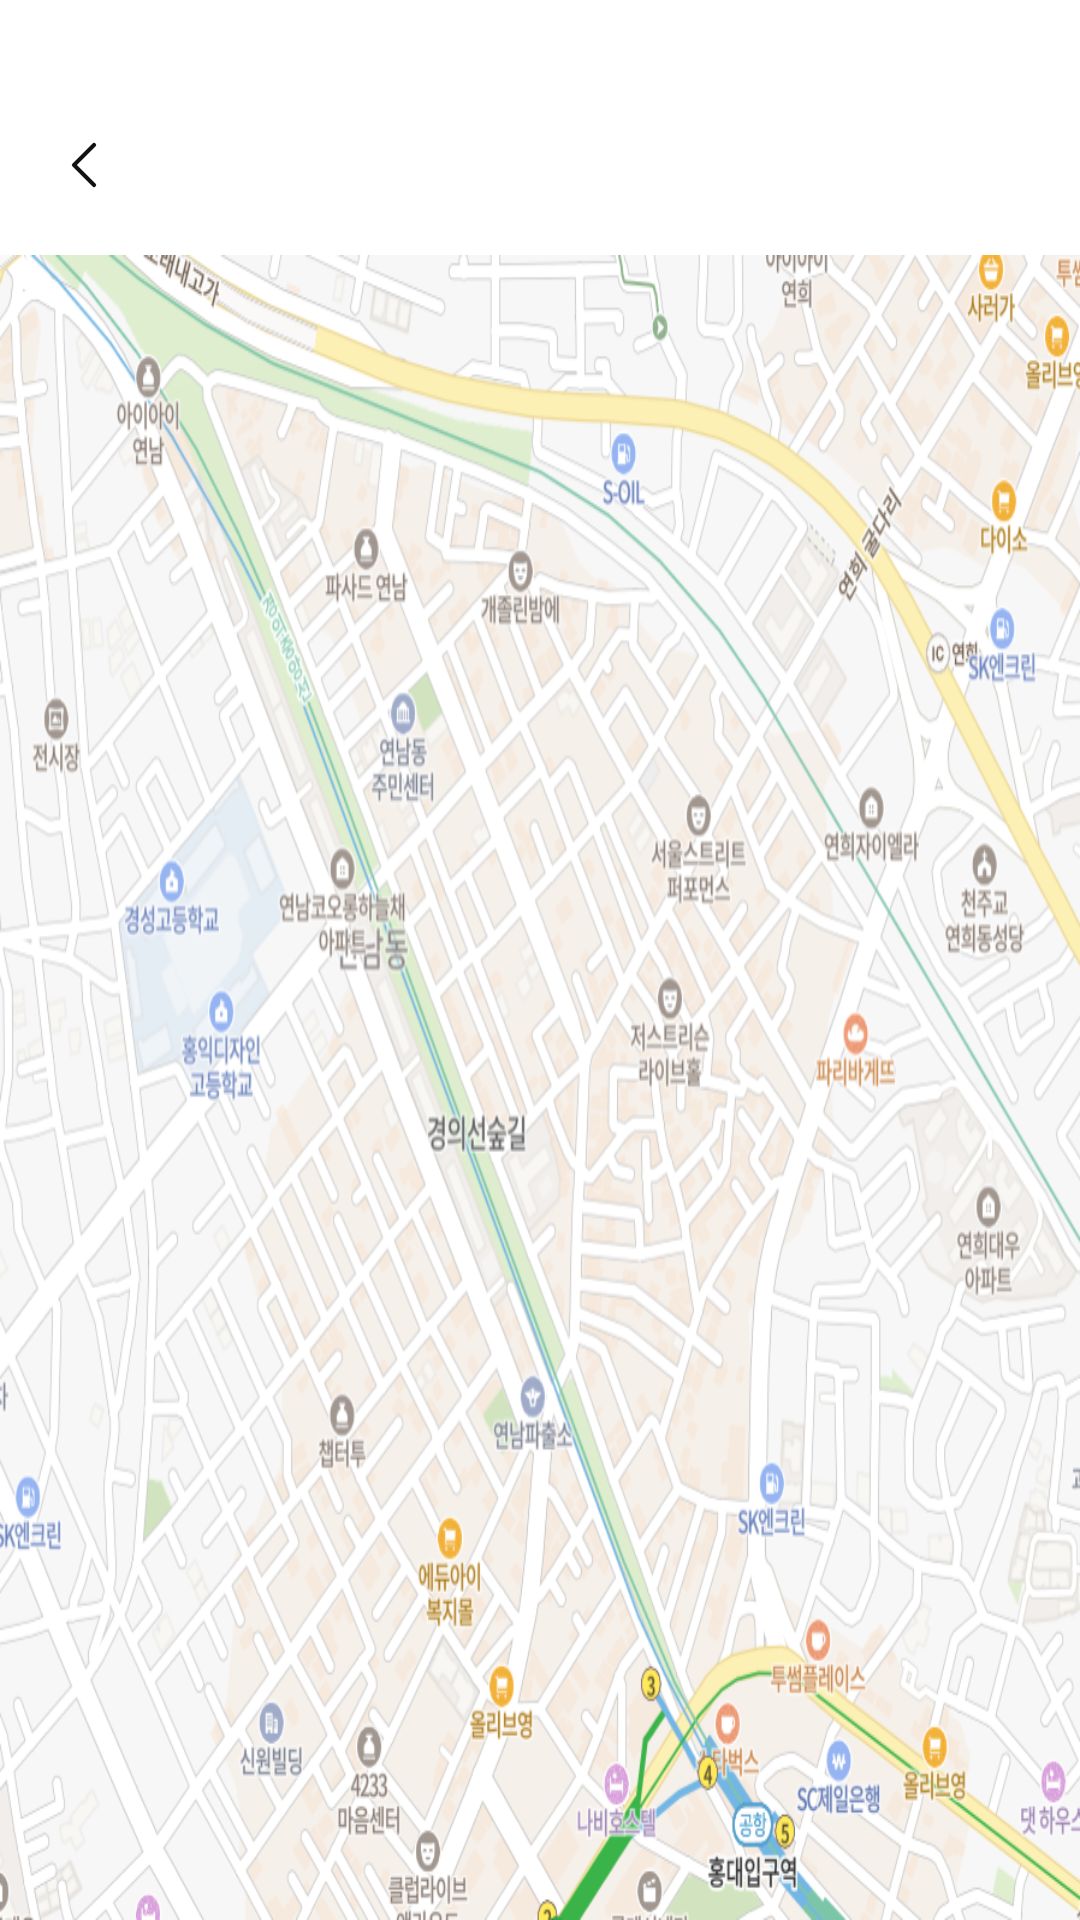

Locate icon controls on the screen. Image size 1080 × 1920, boxes as (x1, y1, x2, y2).
뒤로가기: (72, 142, 96, 188)
